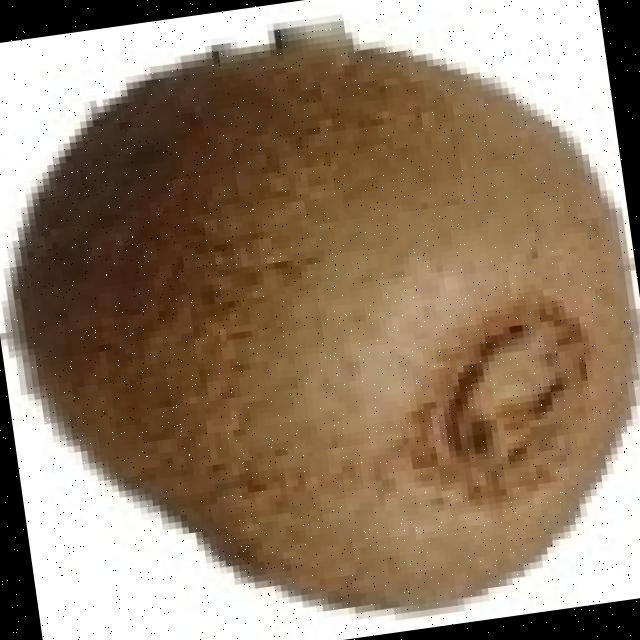kiwi: (27, 38, 640, 618), (0, 43, 81, 112)
